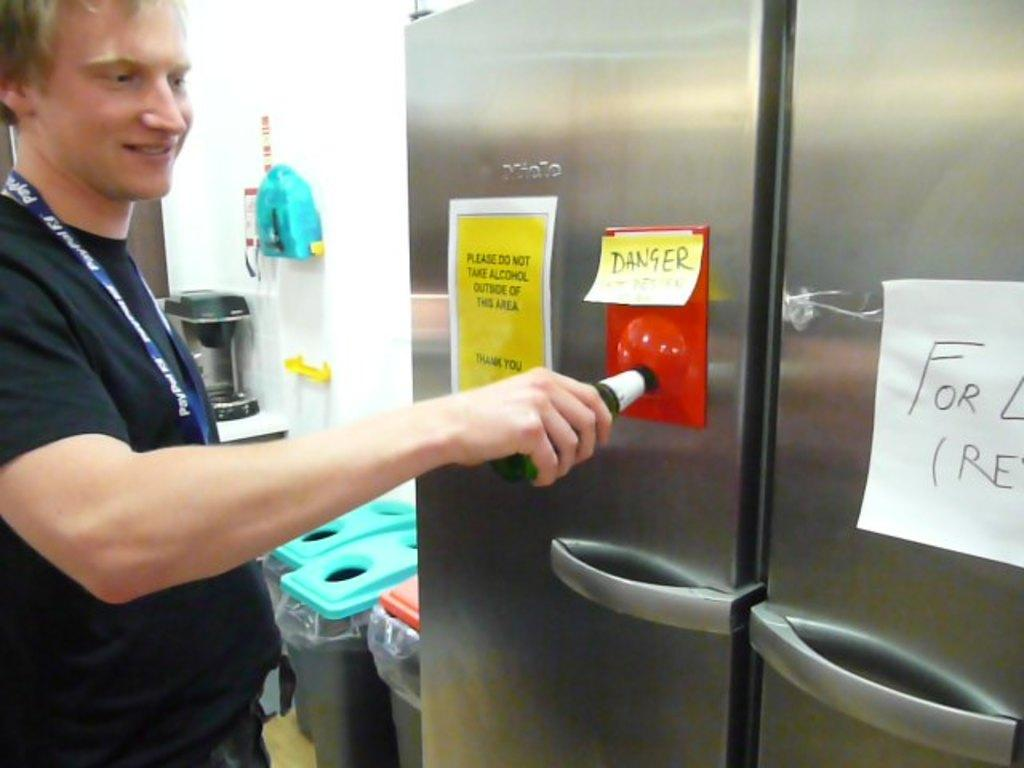handle: (760, 620, 1014, 758), (544, 538, 754, 652)
